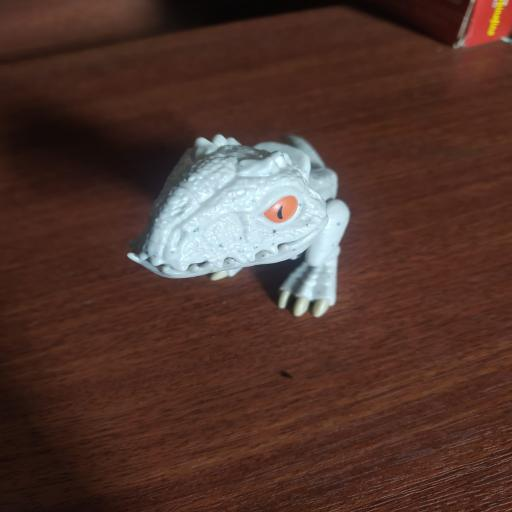Dinosaurio: (114, 118, 360, 323)
